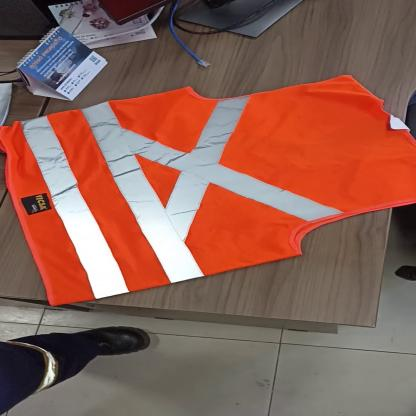colete: (0, 72, 416, 309)
